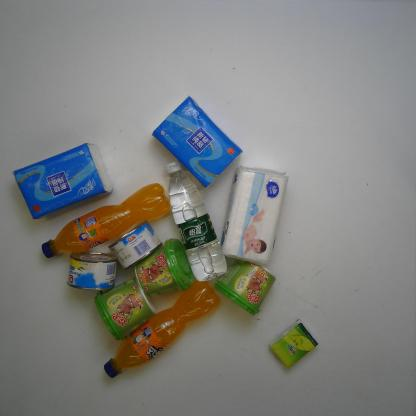Canned Food: (108, 220, 164, 270), (67, 250, 118, 291)
Drink: (102, 280, 221, 378), (41, 182, 172, 258), (164, 160, 228, 282)
Instant Drink: (94, 276, 157, 342), (134, 237, 194, 299), (214, 259, 276, 317)
Tissue: (150, 96, 244, 188), (12, 142, 113, 220), (220, 165, 289, 265), (267, 319, 319, 370)
